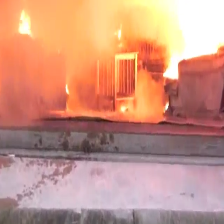fire_h: (163, 1, 224, 80)
fire_l: (19, 7, 32, 36), (114, 22, 122, 39), (163, 101, 169, 113), (120, 105, 127, 111), (65, 84, 69, 93)
